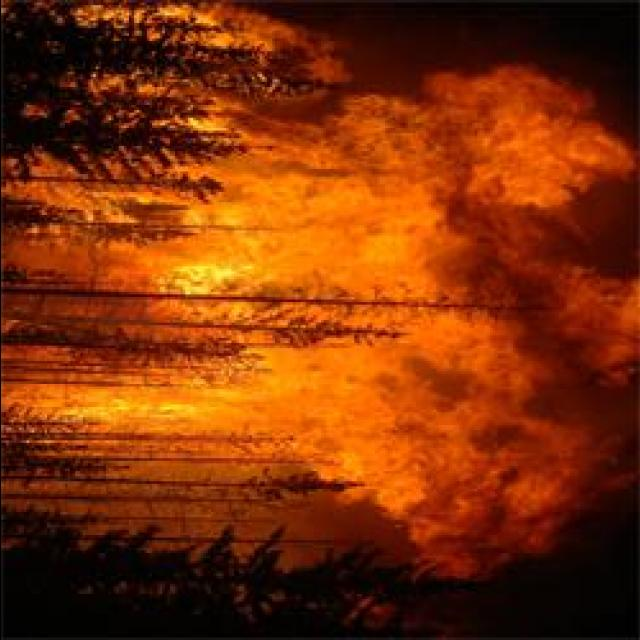fire: (47, 388, 196, 431), (162, 247, 256, 298)
smoke: (422, 174, 640, 510), (414, 58, 632, 174), (359, 494, 582, 589)
